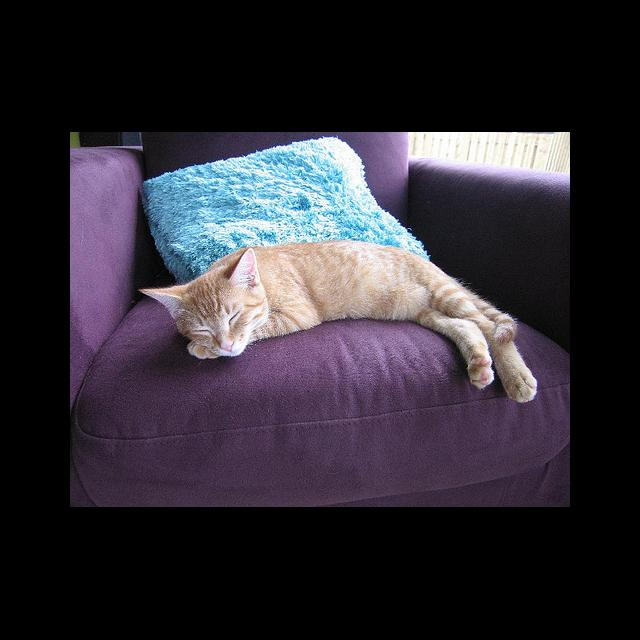animals: (141, 248, 257, 352)
